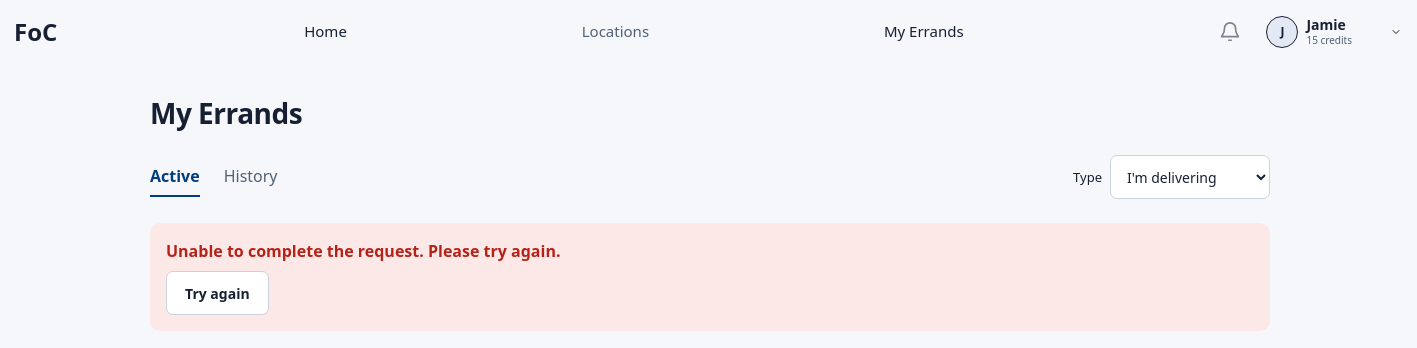
Scenario: retries a failed list and displays its empty state on /errands?participation=delivering&tab=active&page=0
Expected: the message "Unable to complete the request. Please try again. Try again" is shown, [150, 223, 1270, 331]
Click the button "Try again": [217, 293] box [166, 271, 269, 315]
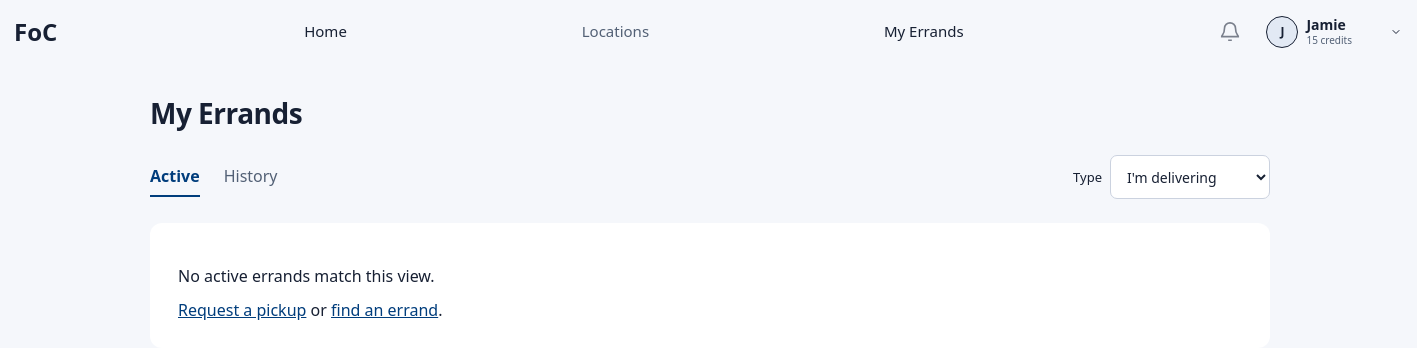
Expected: the text "No active errands match this view." is shown, [178, 265, 435, 287]
Expected: the message "Unable to complete the request. Please try again. Try again" is gone
